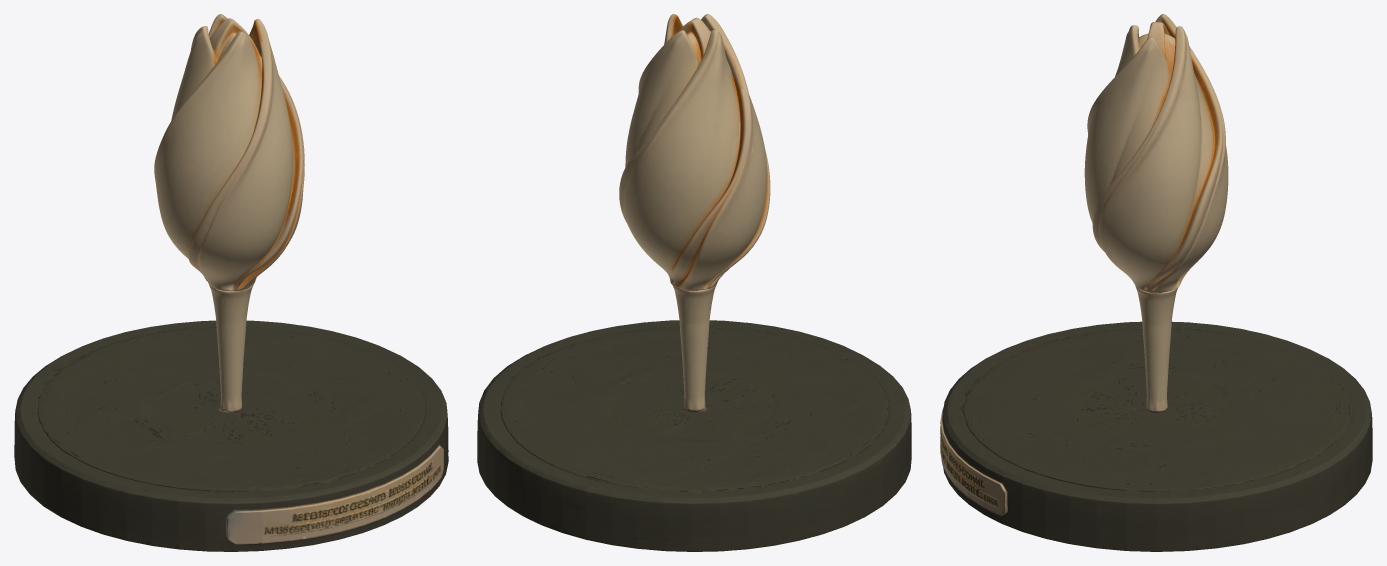
Rendered from mini-optimized.glb.
The picture shows the model from 3 angles, left to right: view 1: azimuth 30°, elevation 25°; view 2: azimuth 150°, elevation 25°; view 3: azimuth 270°, elevation 25°; orthographic projection.
Parts seen in each view (by area): view 1: material; view 2: material; view 3: material.
Part boxes in pixels (box(x1,y1,x2,y2)): material: box(14, 14, 448, 551); material: box(477, 14, 911, 551); material: box(940, 14, 1372, 551).
Size of the model in its own units: 0.8016 by 0.9 by 0.8027.
1 material, 1 textured.
